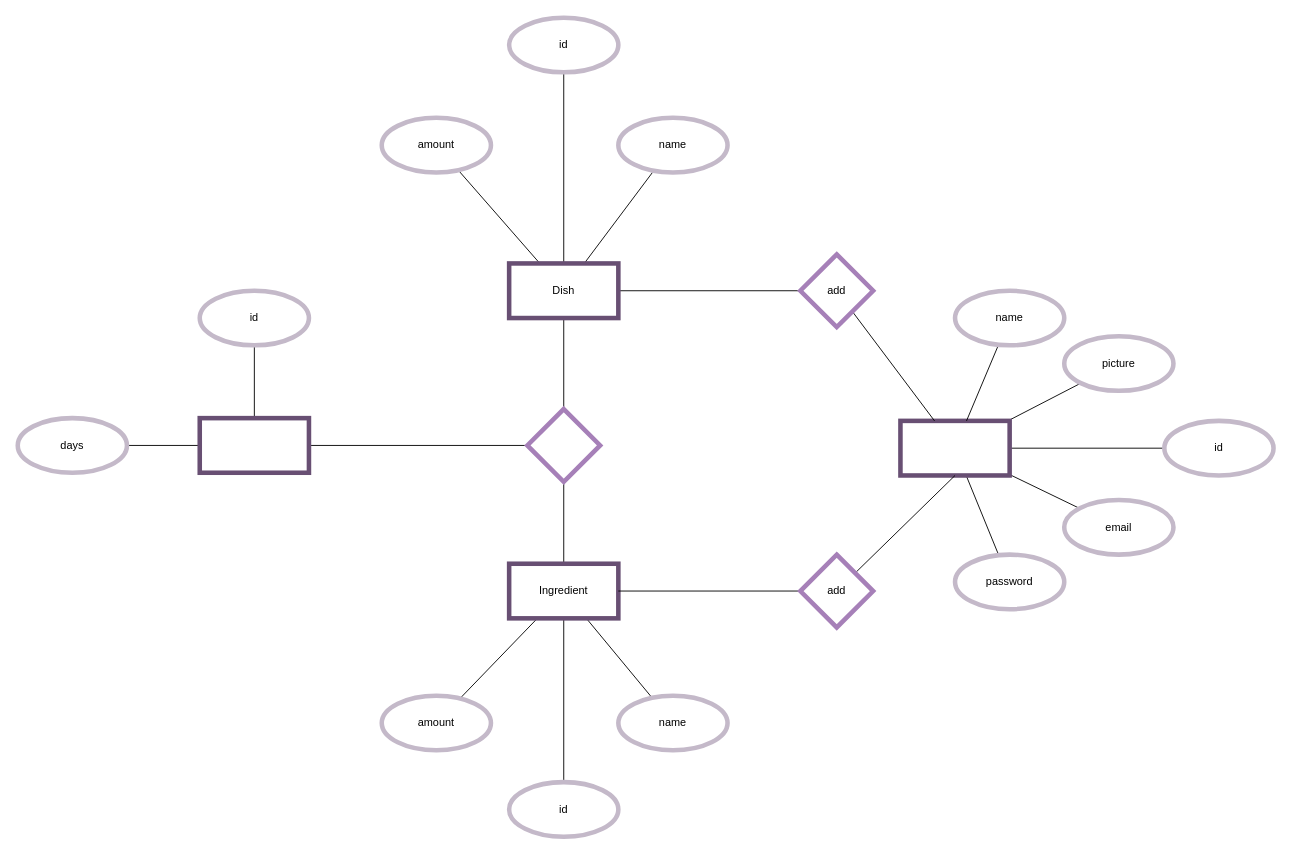
Image size: 1291x854. Some labels were removed from this diagram. Each missing label, with the centre of its shape:
"have" belongs at point (563, 445).
"Order" belongs at point (254, 445).
"User" belongs at point (954, 447).
